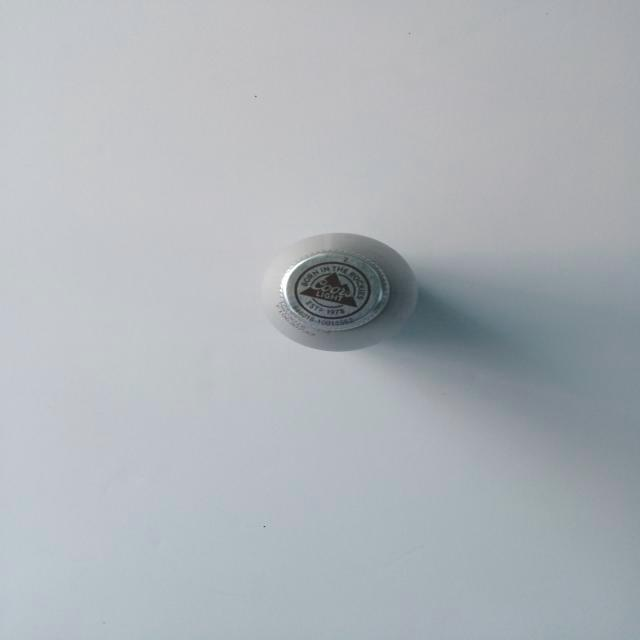metal: (250, 228, 447, 356)
